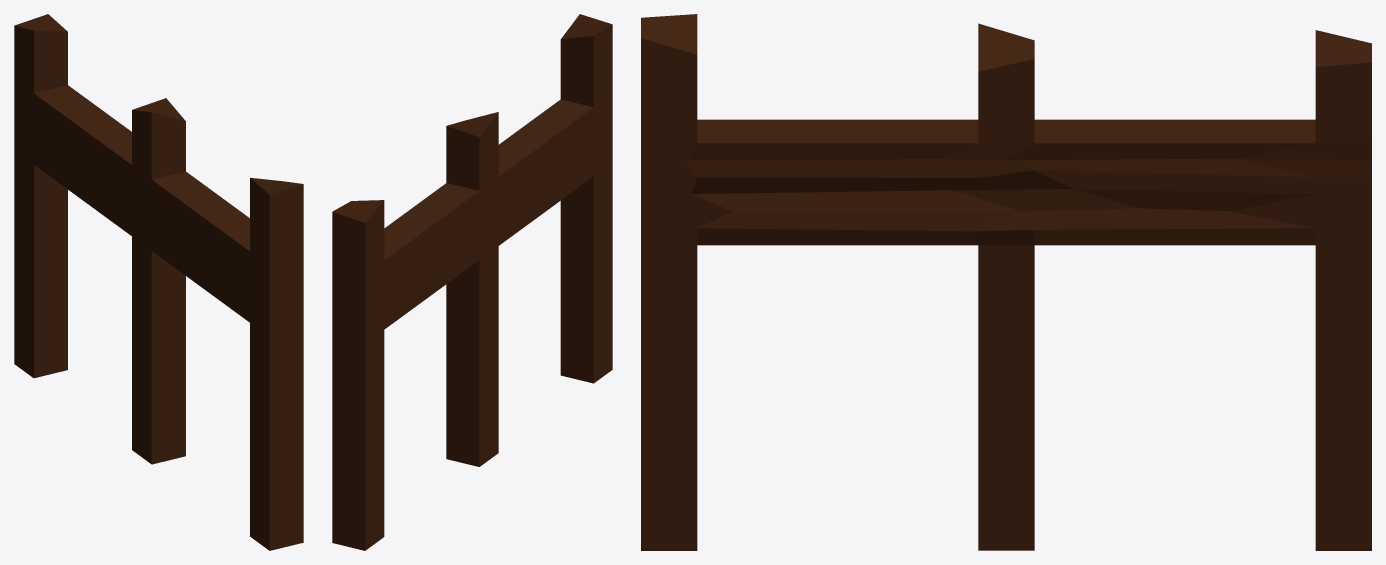
File: Small Fence.fbx
3 views of the same model, side by side, from view 1: azimuth 30°, elevation 25°; view 2: azimuth 150°, elevation 25°; view 3: azimuth 270°, elevation 25° (orthographic). The views are drawn at different scales.
Visible parts, largest first — view 1: Cube; view 2: Cube; view 3: Cube.
Boxes of the visible parts, <box> form: Cube: <box>14,14,303,550</box>; Cube: <box>332,14,612,550</box>; Cube: <box>641,14,1371,550</box>.
Size of the model in its own units: 22.55 by 202 by 260.
